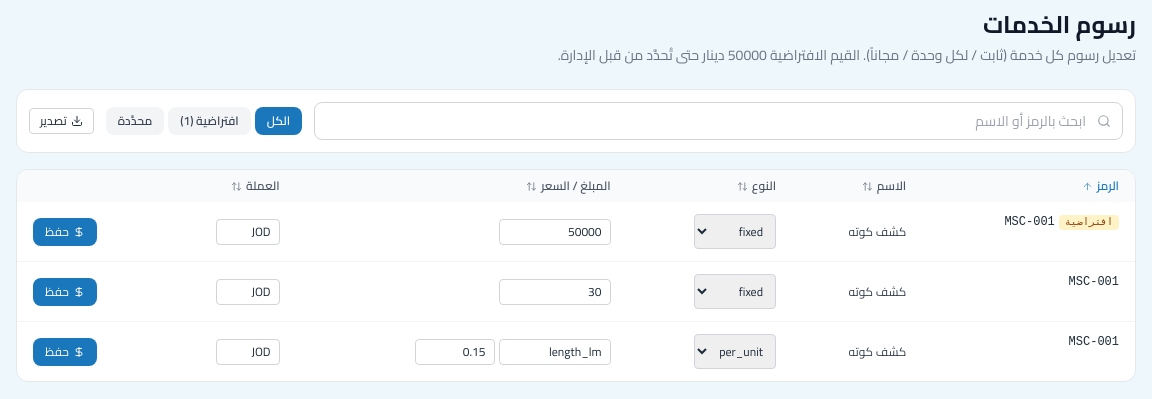
ServiceFeesAdmin (JORD-85) › filter tab "placeholder" narrows the grid to placeholder rows only
The image size is (1152, 399).
Check: the row with test id "fee-row-1" is shown, box [17,202,1135,262]
Click the button with test id "fee-tab-placeholder" at coordinates (209, 121), box [168,107,251,135]
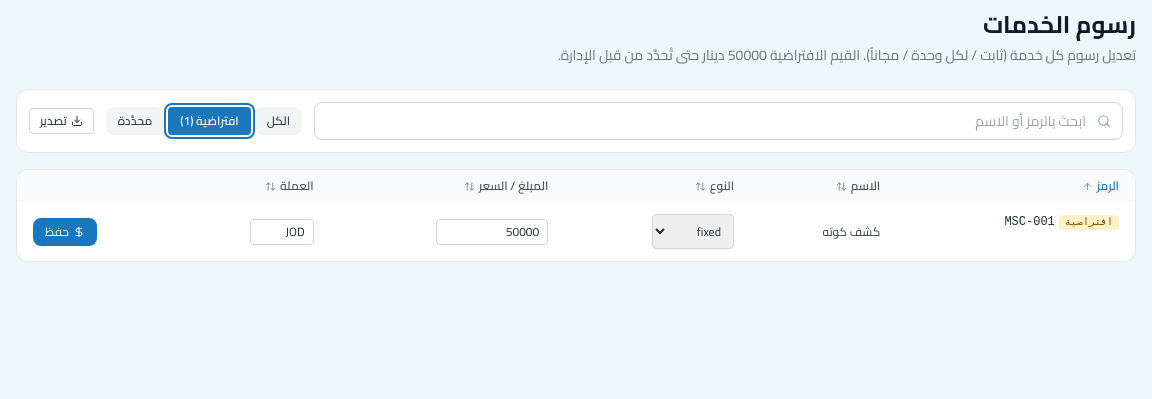
Check: the row with test id "fee-row-1" is shown, box [17,202,1135,261]
Check: the row with test id "fee-row-2" is gone
Check: the row with test id "fee-row-3" is gone
